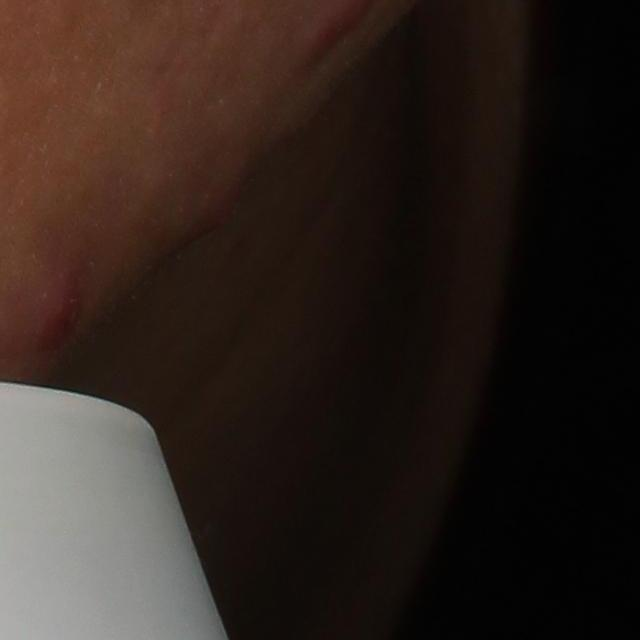papule: (32, 271, 84, 347), (179, 187, 244, 245)
